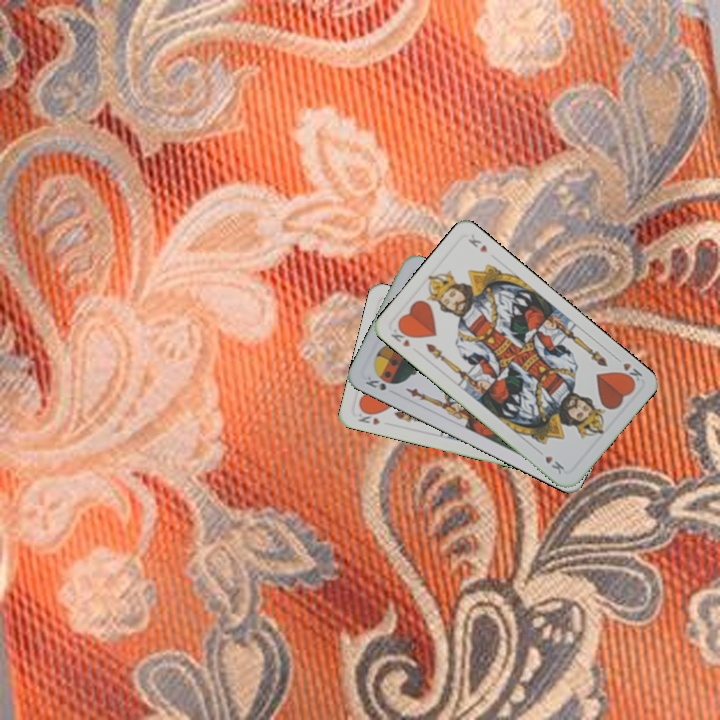HK: (611, 352, 645, 387), (387, 322, 414, 350), (354, 406, 382, 428)
SK: (361, 372, 389, 393)
